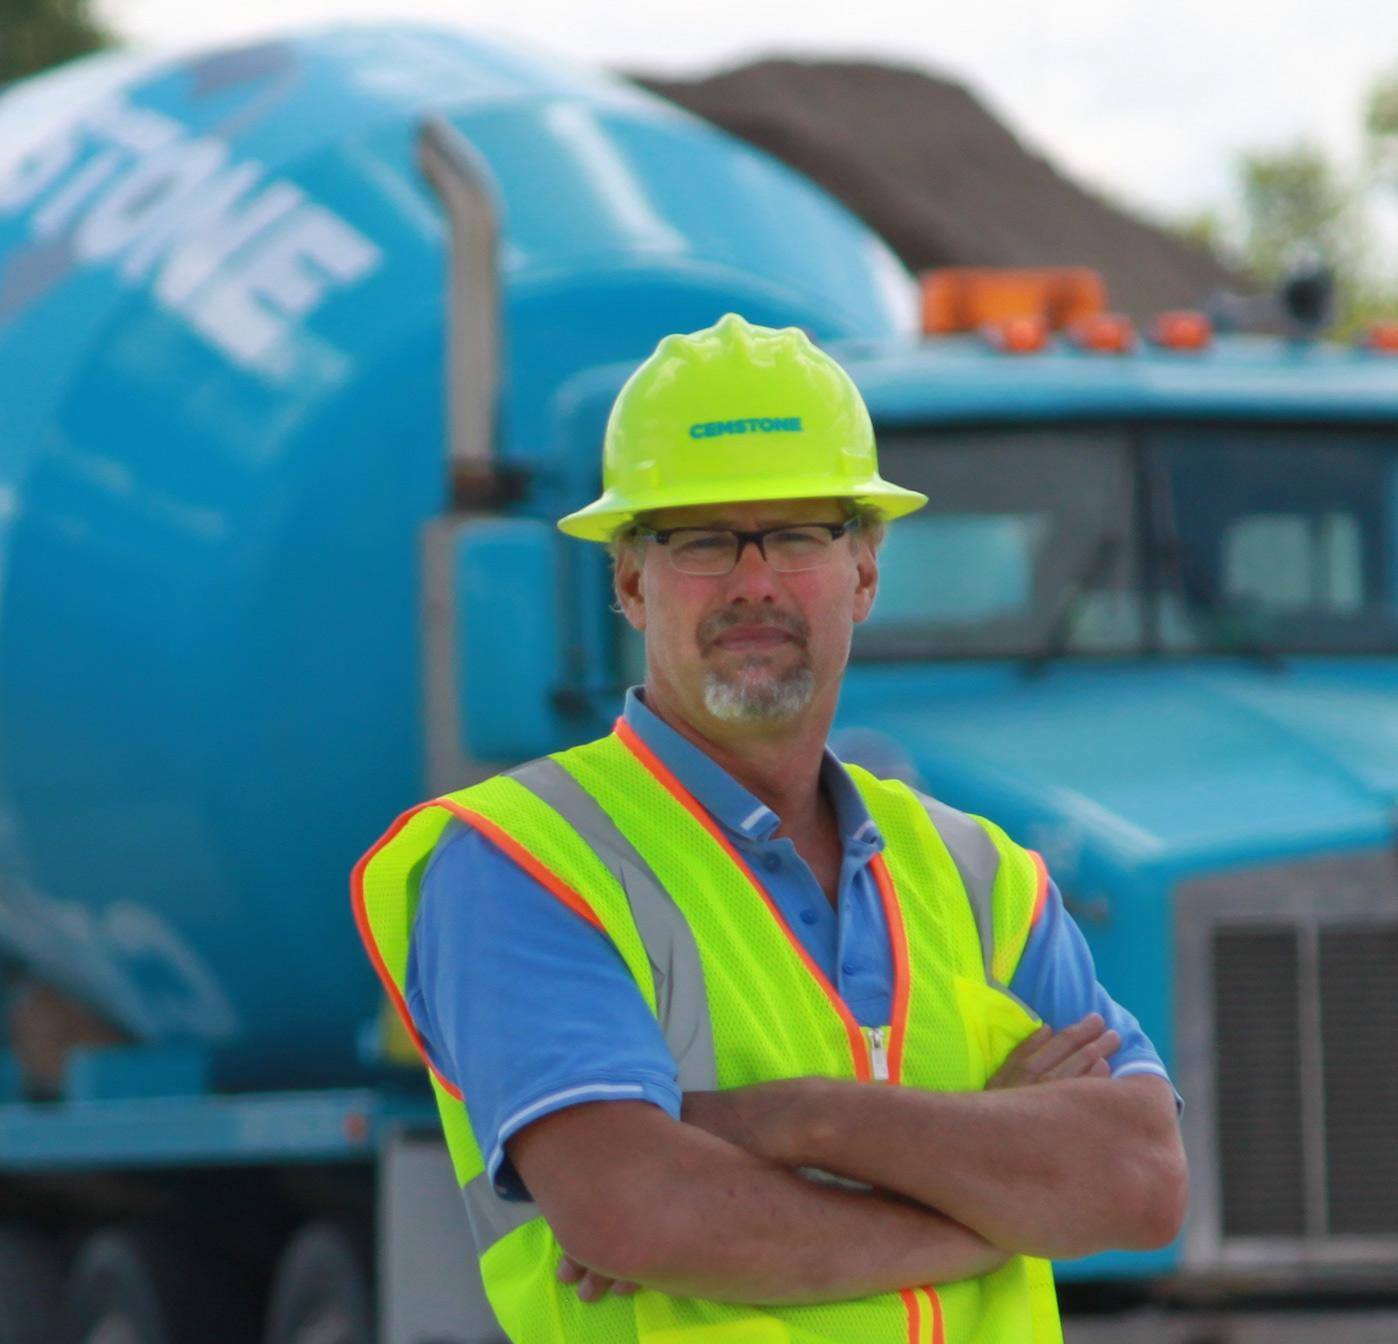helmet: (535, 313, 959, 563)
person: (345, 307, 1242, 1344)
vest: (352, 716, 1113, 1344)
